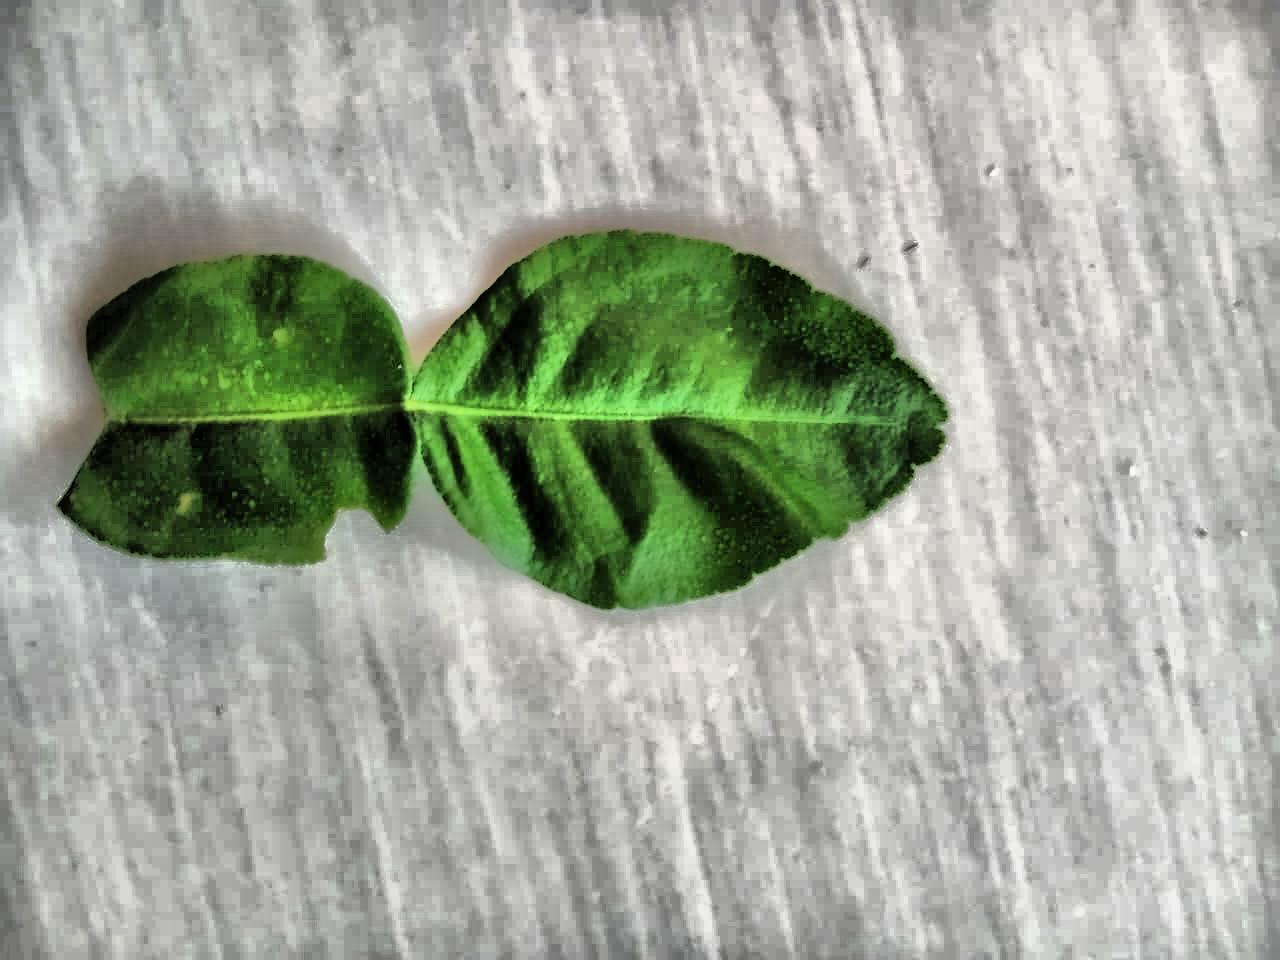daun jeruk: (58, 232, 947, 607)
